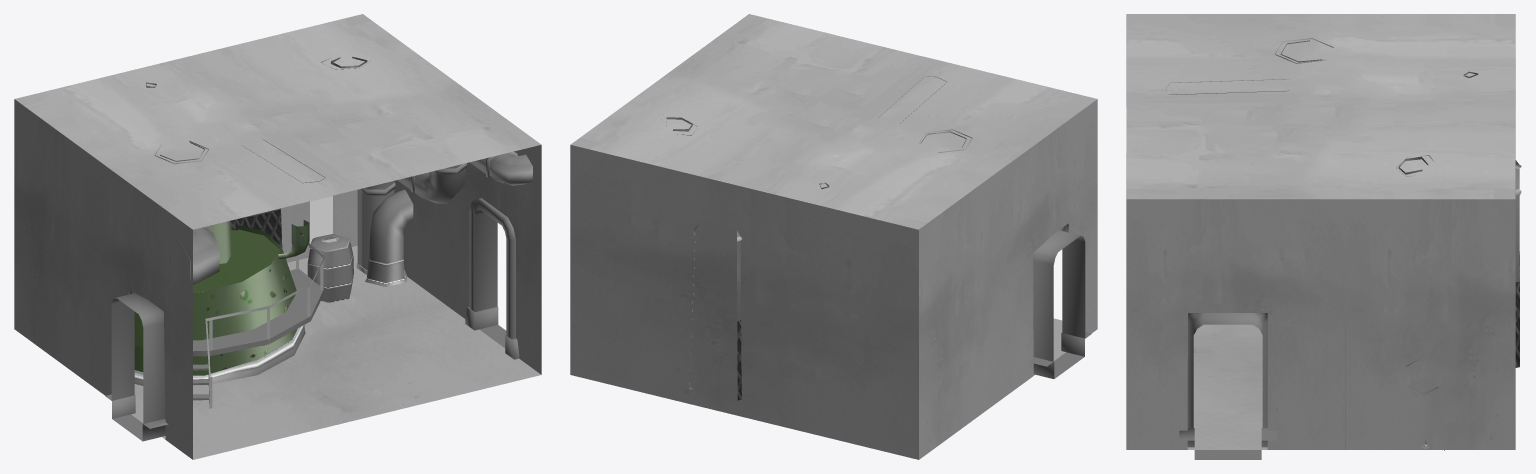
Rendered from MHS_Water_L3_R1_optimized.fbx.
3 views of the same model, side by side, from view 1: azimuth 30°, elevation 25°; view 2: azimuth 150°, elevation 25°; view 3: azimuth 270°, elevation 25° (orthographic). The views are drawn at different scales.
Visible parts, largest first — view 1: lightmap1, lightmap-1, MHS_Water_L3_door; view 2: lightmap1, MHS_Water_L3_door; view 3: lightmap1, MHS_Water_L3_door.
Boxes of the visible parts, left/top/right/bottom form: lightmap1: left=14, top=14, right=541, bottom=459; lightmap-1: left=134, top=196, right=332, bottom=375; MHS_Water_L3_door: left=111, top=209, right=506, bottom=441; lightmap1: left=570, top=14, right=1097, bottom=459; MHS_Water_L3_door: left=1033, top=230, right=1085, bottom=378; lightmap1: left=1126, top=14, right=1521, bottom=450; MHS_Water_L3_door: left=1193, top=313, right=1262, bottom=459.
Size of the model in its own units: 10.3 by 6.12 by 8.39.
